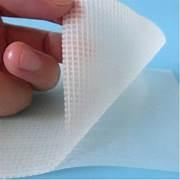cotton: (0, 0, 164, 177), (63, 0, 164, 151), (58, 70, 178, 171)
